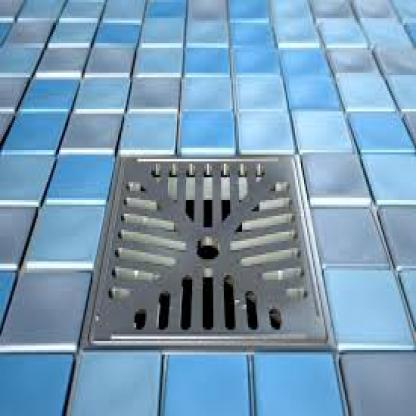open drainage-not overflowing-: (88, 146, 339, 349)
